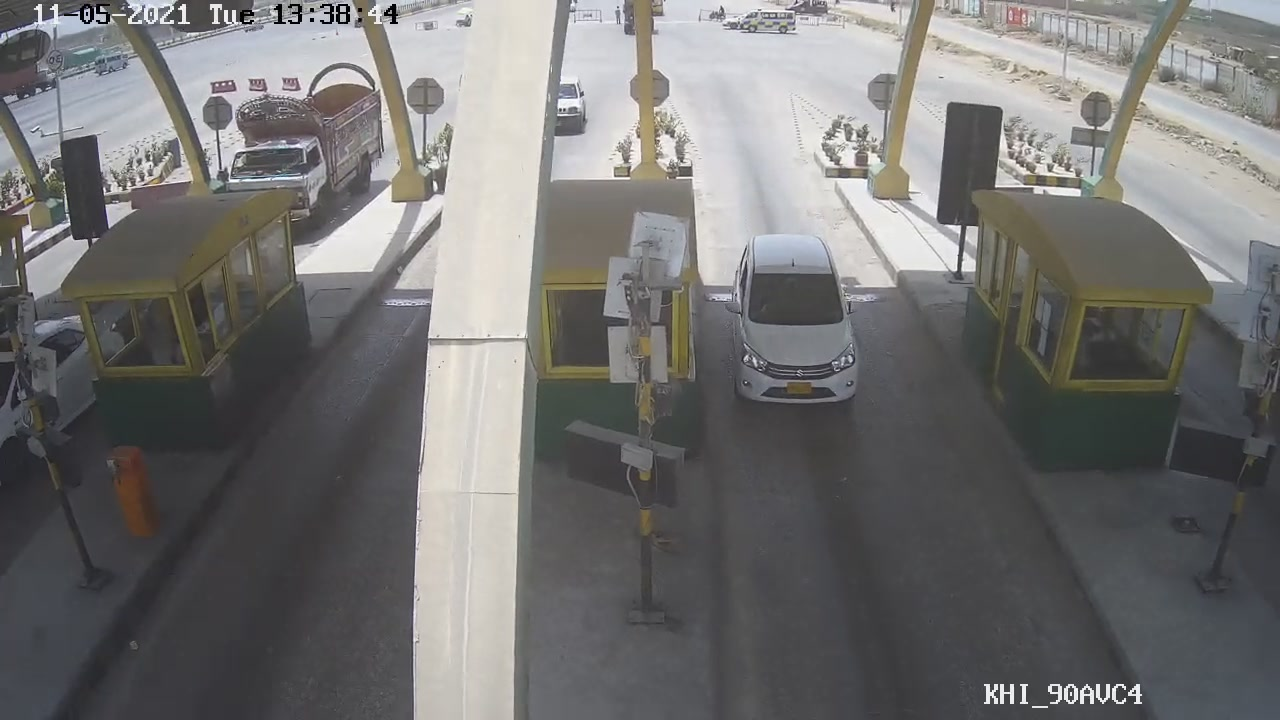F1: (725, 231, 864, 421)
